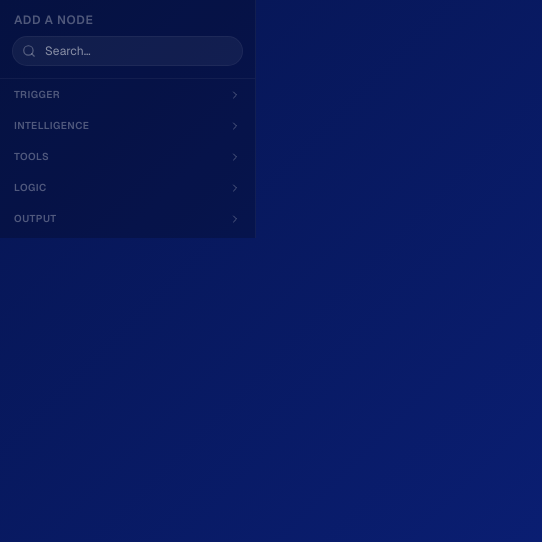
Test: StudioPalette - collapsible families › expands all families automatically when a non-empty search is typed, even if collapsed
Type "agent" into the field with placeholder "Search…" at (128, 51), box top-left (12, 36), bottom-right (243, 66)
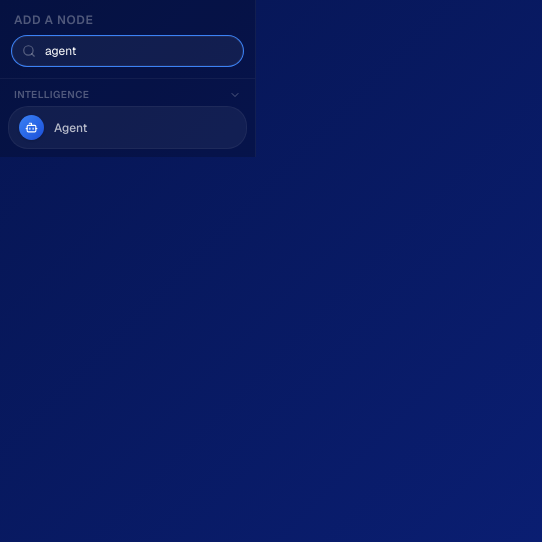
Expected: the text "Agent" is shown, top-left (54, 120), bottom-right (88, 136)
